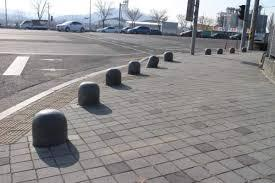Animal: (39, 103, 71, 137), (71, 77, 99, 111), (101, 66, 123, 90), (125, 59, 144, 81), (144, 54, 165, 72), (164, 50, 181, 60)
